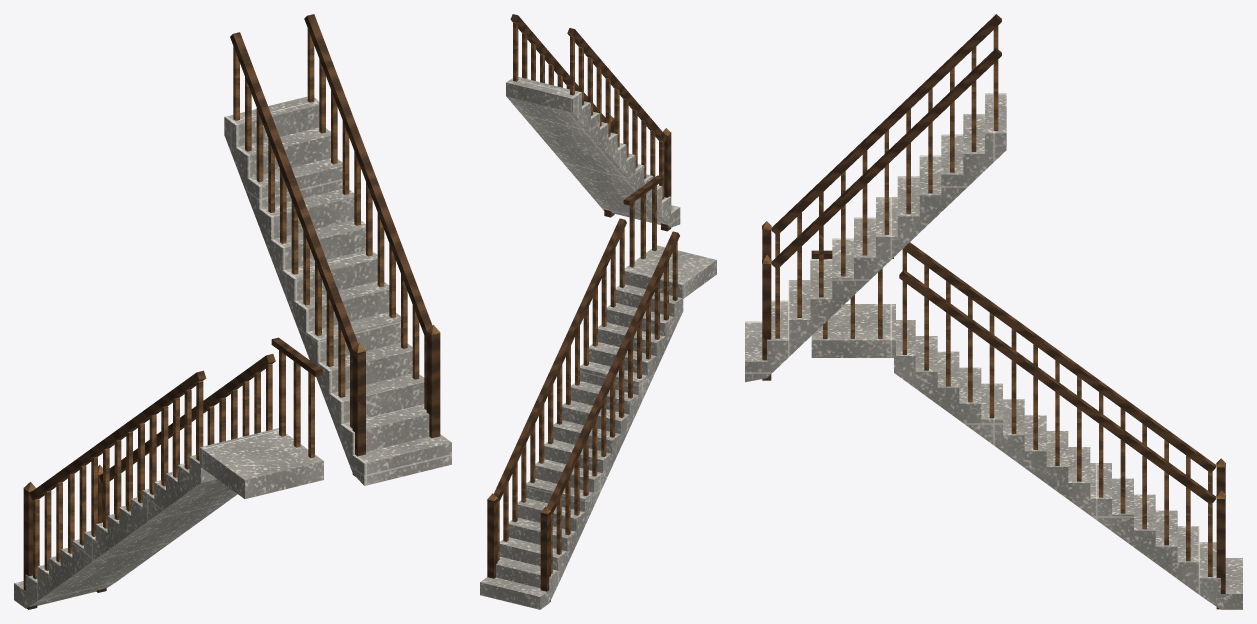
Rendered from stair_1960.fbx.
The picture shows the model from 3 angles, left to right: view 1: azimuth 30°, elevation 25°; view 2: azimuth 150°, elevation 25°; view 3: azimuth 270°, elevation 25°; orthographic projection. The views are drawn at different scales.
Visible parts, largest first — view 1: stair_1960; view 2: stair_1960; view 3: stair_1960.
Part boxes in pixels (bbox=[...]): stair_1960: bbox=[14, 14, 451, 609]; stair_1960: bbox=[480, 14, 716, 609]; stair_1960: bbox=[745, 14, 1242, 609].
Size of the model in its own units: 180 by 644 by 485.
